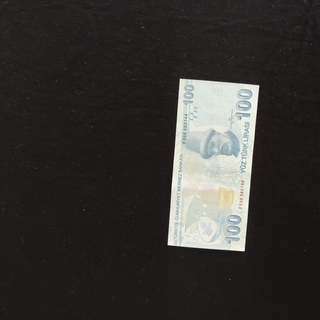100TLBack: (167, 77, 259, 252)
